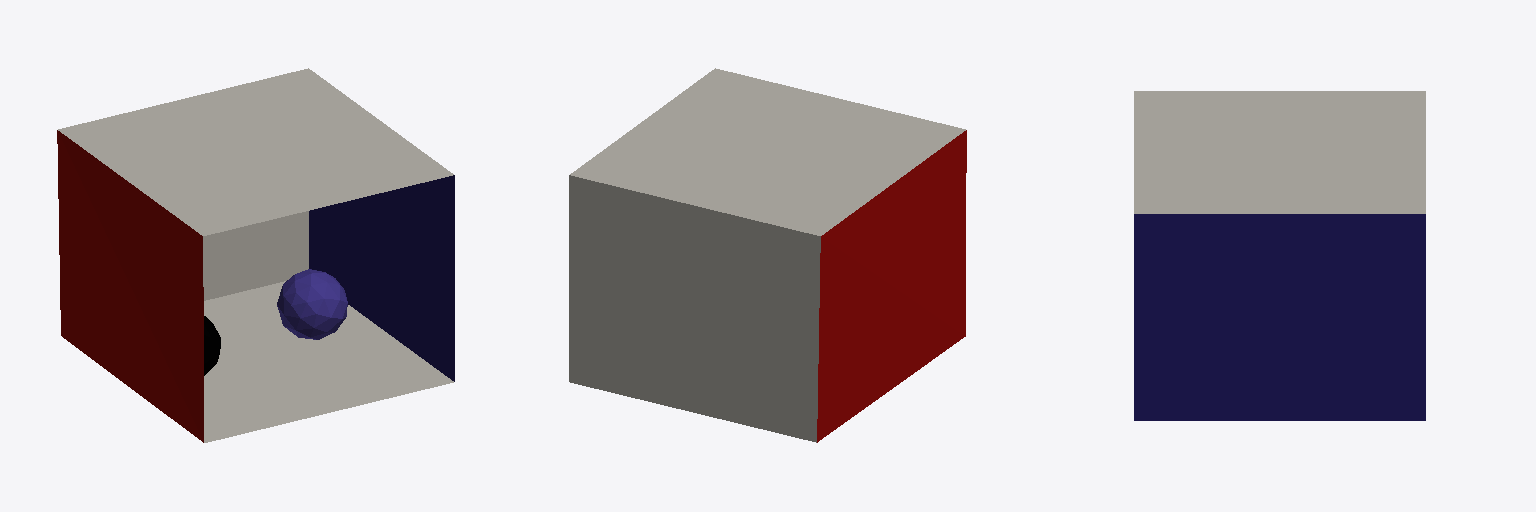
File: CornellBox-Sphere-647.obj
3 views of the same model, side by side, from view 1: azimuth 30°, elevation 25°; view 2: azimuth 150°, elevation 25°; view 3: azimuth 270°, elevation 25° (orthographic).
Visible parts, largest first — view 1: ceiling, leftWall, floor, rightWall, backWall, leftSphere, rightSphere; view 2: backWall, ceiling, leftWall; view 3: rightWall, ceiling.
Boxes of the visible parts, box(x1,y1,x2,y2) form: ceiling: box(58, 68, 453, 235); leftWall: box(57, 130, 203, 442); floor: box(204, 281, 453, 442); rightWall: box(309, 175, 454, 381); backWall: box(203, 211, 308, 300); leftSphere: box(277, 269, 347, 339); rightSphere: box(204, 316, 220, 375); backWall: box(569, 175, 820, 442); ceiling: box(570, 68, 965, 235); leftWall: box(817, 130, 966, 442); rightWall: box(1134, 214, 1425, 420); ceiling: box(1134, 91, 1425, 213).
Size of the model in its own units: 2.02 by 1.59 by 2.03.